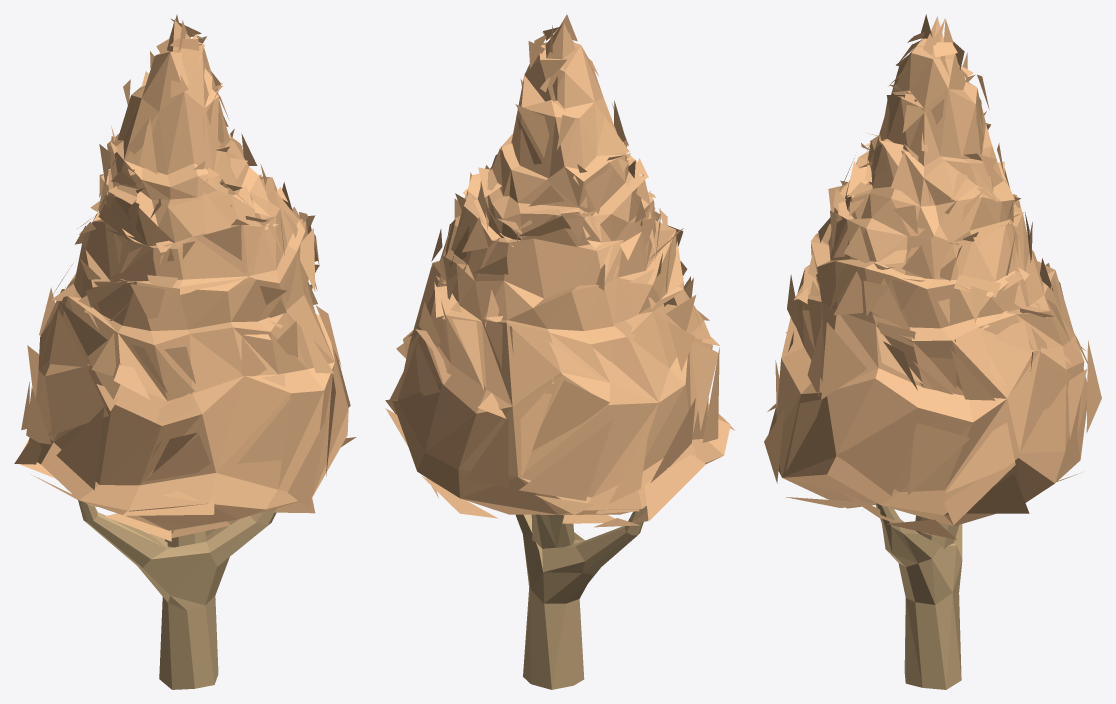
The model's file is DriedtulipB-1.fbx.
3 views of the same model, side by side, from view 1: azimuth 30°, elevation 25°; view 2: azimuth 150°, elevation 25°; view 3: azimuth 270°, elevation 25° (orthographic).
Parts seen in each view (by area): view 1: leaves.004, extraleaves, trunk.004; view 2: leaves.004, extraleaves, trunk.004; view 3: leaves.004, extraleaves, trunk.004.
Part boxes in pixels (box(x1,y1,x2,y2)): leaves.004: box(28, 20, 348, 530); extraleaves: box(14, 14, 356, 541); trunk.004: box(78, 90, 276, 689); leaves.004: box(392, 22, 730, 514); extraleaves: box(385, 14, 735, 527); trunk.004: box(515, 506, 647, 689); leaves.004: box(768, 16, 1087, 526); extraleaves: box(764, 14, 1101, 539); trunk.004: box(875, 99, 962, 689).
Bounding box in the file's own units: 374 × 816 × 378.
